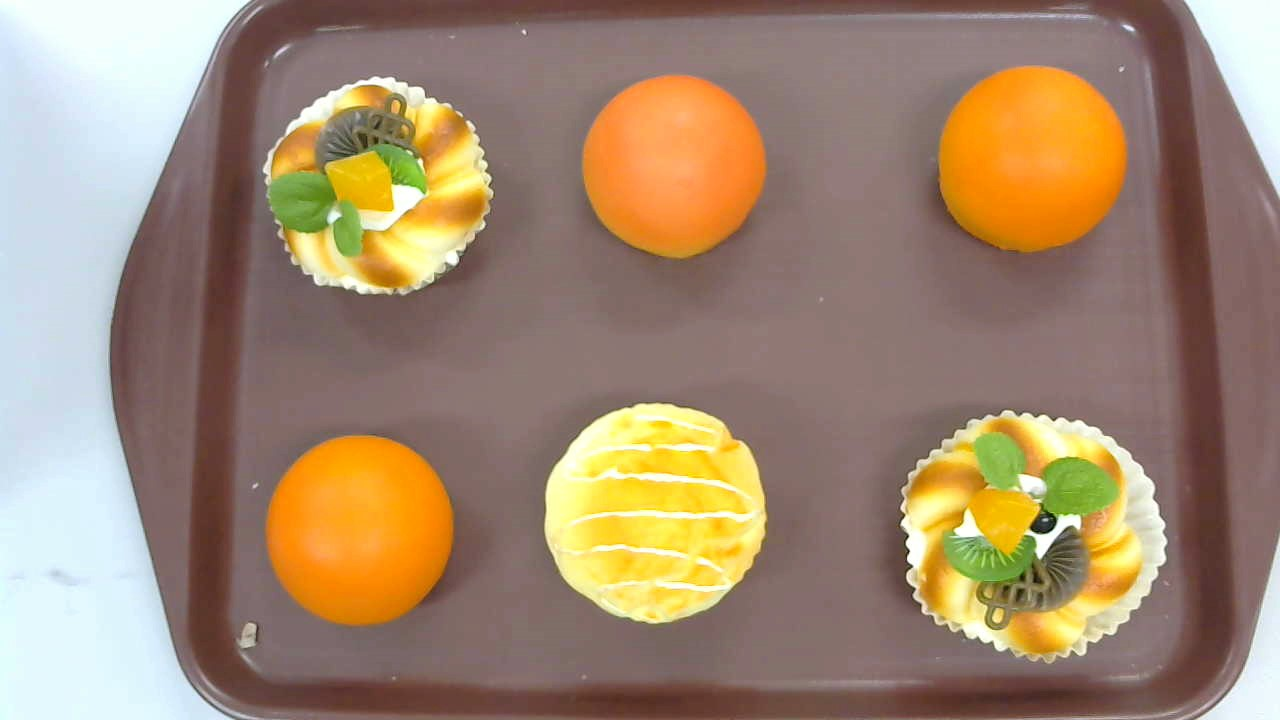bun: (937, 66, 1131, 253), (265, 435, 454, 625), (581, 74, 765, 263)
cupcake: (544, 403, 766, 626)
fruit tart: (898, 410, 1168, 664), (262, 76, 495, 297)
